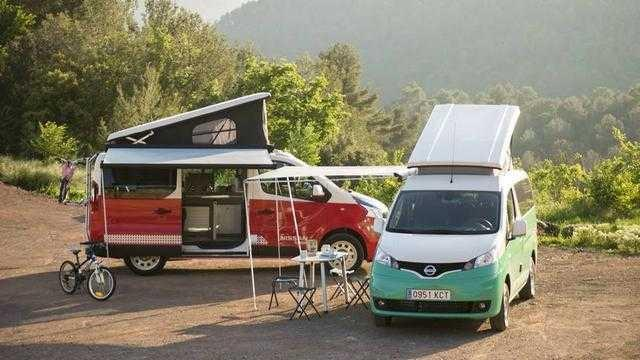car: (79, 141, 391, 273), (368, 156, 543, 331)
